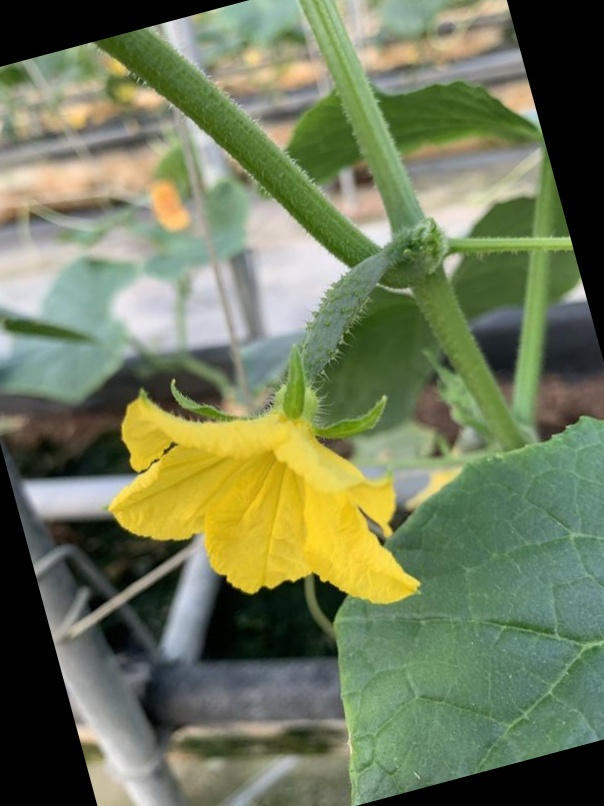flowering: (94, 250, 432, 660)
